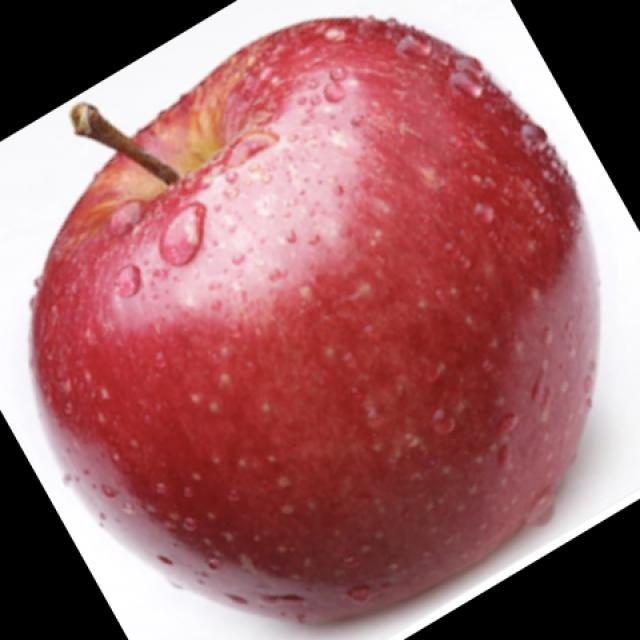Fresh Apple: (31, 19, 596, 626)
